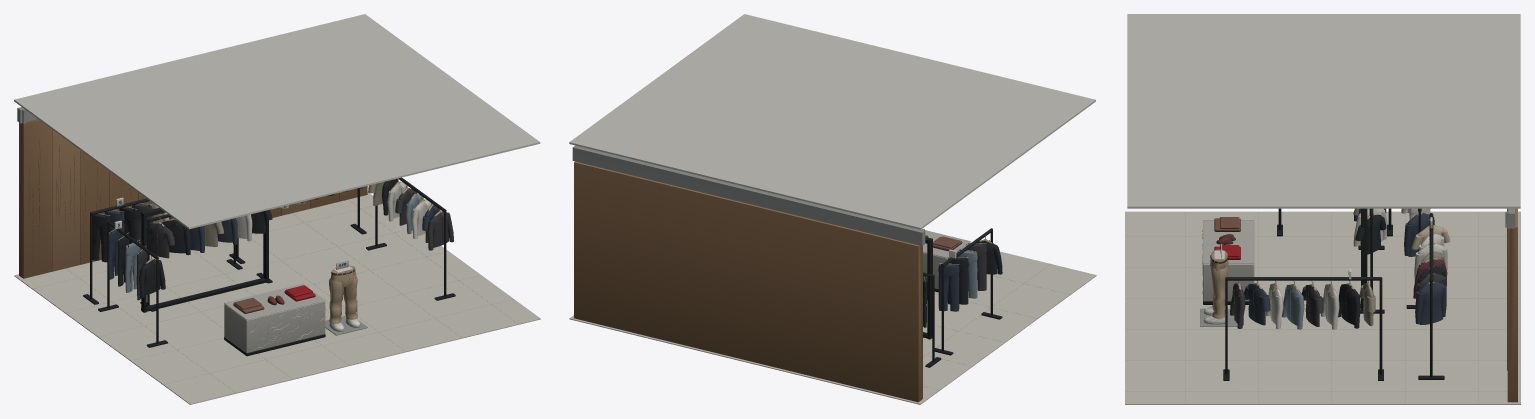
File: gallery.glb
3 views of the same model, side by side, from view 1: azimuth 30°, elevation 25°; view 2: azimuth 150°, elevation 25°; view 3: azimuth 270°, elevation 25° (orthographic). The views are drawn at different scales.
Parts seen in each view (by area): view 1: GLXYStudio; view 2: GLXYStudio; view 3: GLXYStudio.
Part boxes in pixels (bbox=[...]): GLXYStudio: bbox=[14, 14, 540, 404]; GLXYStudio: bbox=[569, 14, 1096, 404]; GLXYStudio: bbox=[1125, 14, 1520, 404].
Size of the model in its own units: 7.46 by 3.59 by 6.48.
